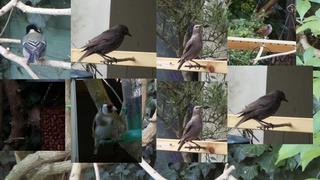dunnock: (251, 24, 272, 39)
goldfinch: (92, 103, 118, 155)
great tit: (21, 24, 47, 66)
mouse: (27, 103, 41, 131)
starling: (77, 24, 132, 65), (234, 90, 289, 131), (177, 105, 203, 152), (177, 24, 203, 70)
